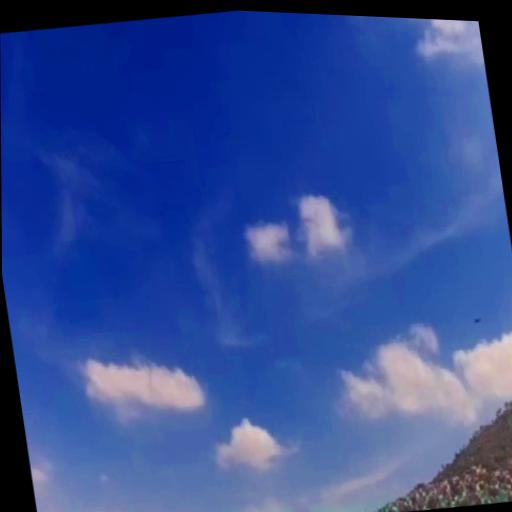drones: (469, 312, 485, 329)
